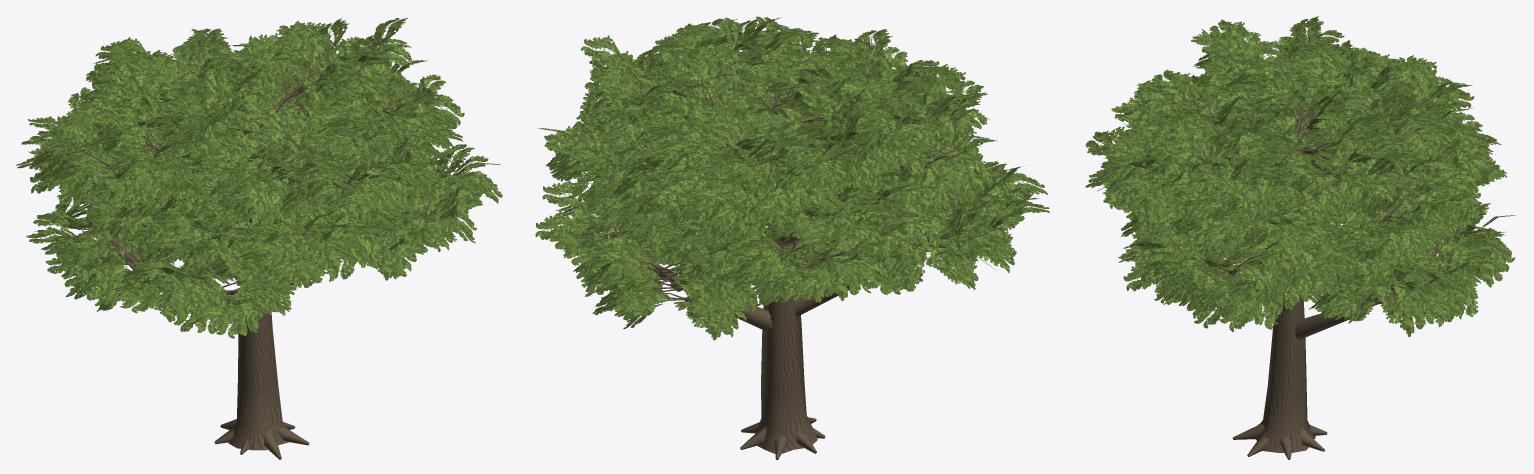
The model's file is oak_near.glb.
The picture shows the model from 3 angles, left to right: view 1: azimuth 30°, elevation 25°; view 2: azimuth 150°, elevation 25°; view 3: azimuth 270°, elevation 25°; orthographic projection. The views are drawn at different scales.
Parts seen in each view (by area): view 1: oak_near; view 2: oak_near; view 3: oak_near.
Boxes of the visible parts, x1,y1,x2,y2 form: oak_near: [16, 18, 502, 459]; oak_near: [535, 16, 1049, 459]; oak_near: [1085, 16, 1515, 459].
Size of the model in its own units: 9.25 by 7.47 by 8.35.
Materials: 2 (2 with a texture image).
